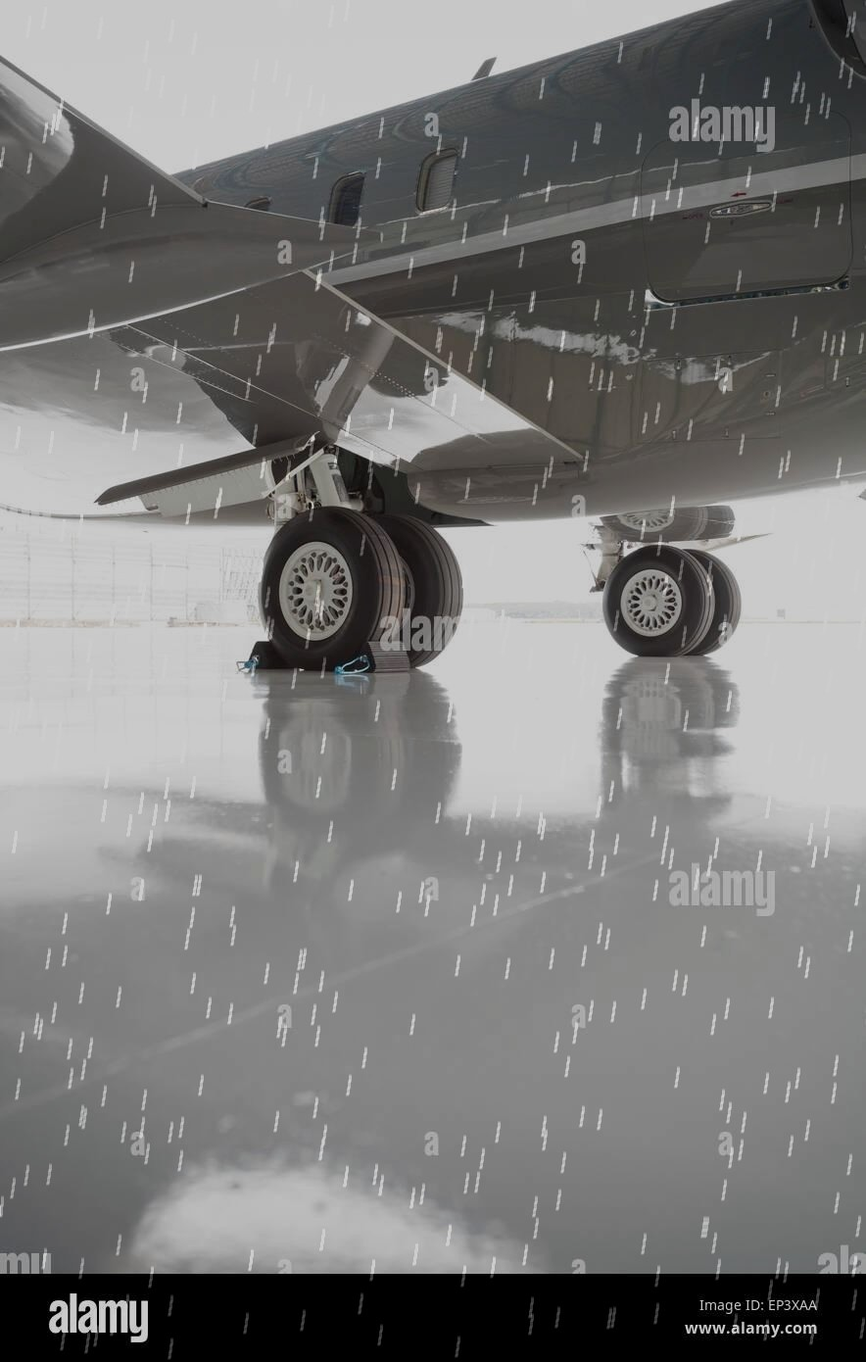chock: (339, 637, 417, 680), (241, 633, 310, 670)
wheel: (256, 507, 399, 667), (601, 544, 737, 657), (365, 516, 461, 667), (673, 549, 741, 652)
